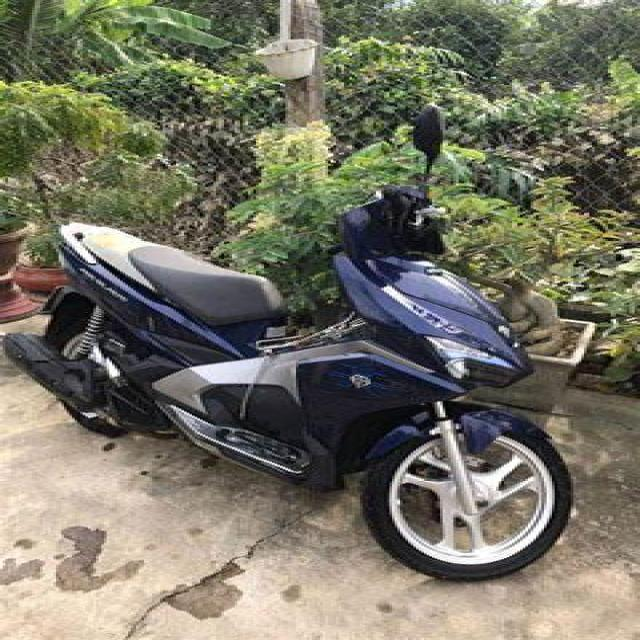motorcycle: (9, 104, 623, 588)
